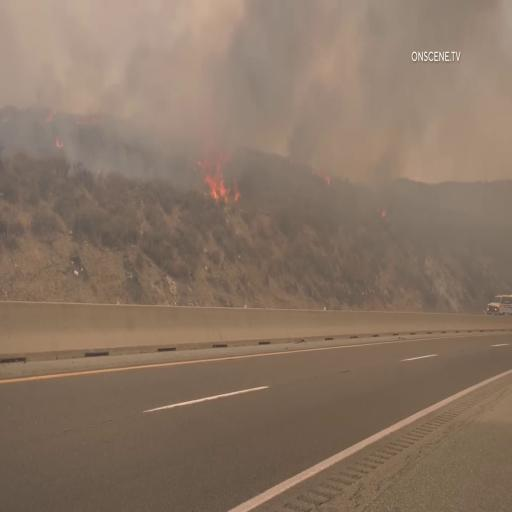fire: (204, 168, 242, 216)
